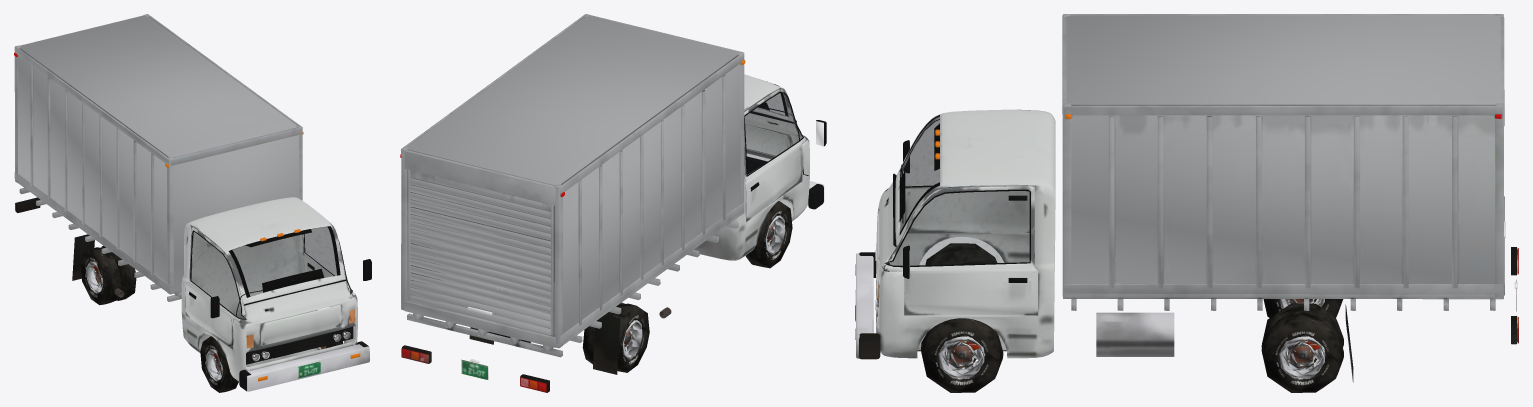
Rendered from kaiun_lod1.glb.
The picture shows the model from 3 angles, left to right: view 1: azimuth 30°, elevation 25°; view 2: azimuth 150°, elevation 25°; view 3: azimuth 270°, elevation 25°; orthographic projection. The views are drawn at different scales.
Visible parts, largest first — view 1: Body, Wheel_RR, Wheel_FR; view 2: Body, Wheel_RR, Wheel_FR; view 3: Body, Wheel_RL, Wheel_FL, Wheel_FR, Wheel_RR.
Boxes of the visible parts, box(x1,y1,x2,y2) form: Body: box(14, 14, 371, 391); Wheel_RR: box(80, 245, 136, 305); Wheel_FR: box(200, 336, 238, 392); Body: box(400, 14, 826, 392); Wheel_RR: box(582, 302, 649, 372); Wheel_FR: box(745, 201, 792, 268); Body: box(855, 14, 1518, 382); Wheel_RL: box(1261, 303, 1343, 392); Wheel_FL: box(921, 318, 1003, 392); Wheel_FR: box(925, 243, 997, 265); Wheel_RR: box(1263, 299, 1343, 317).
Size of what is drawn, in the model's own units: 2.35 by 2.92 by 5.94.
Materials: 2 (2 with a texture image).
